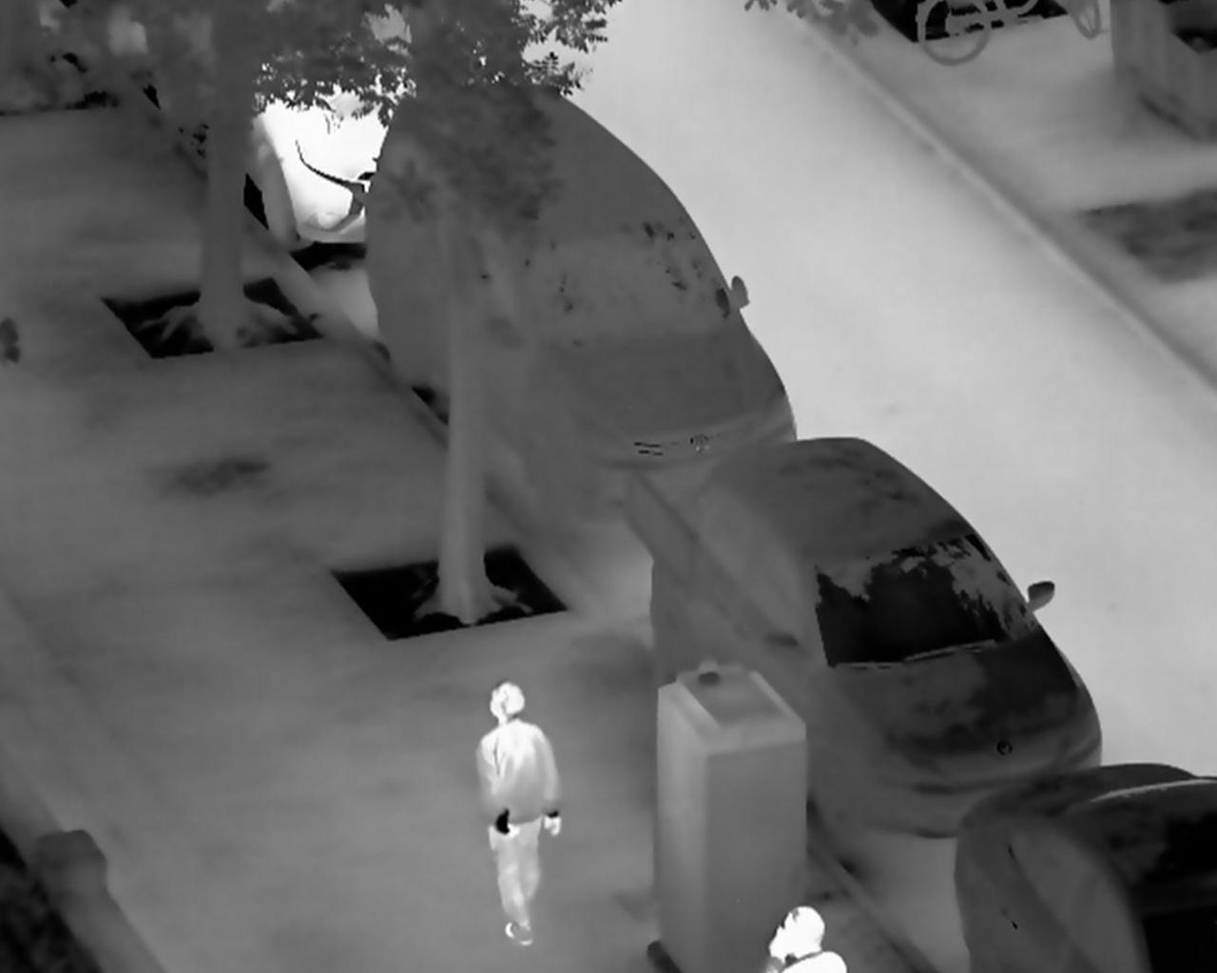person: (474, 678, 565, 947)
